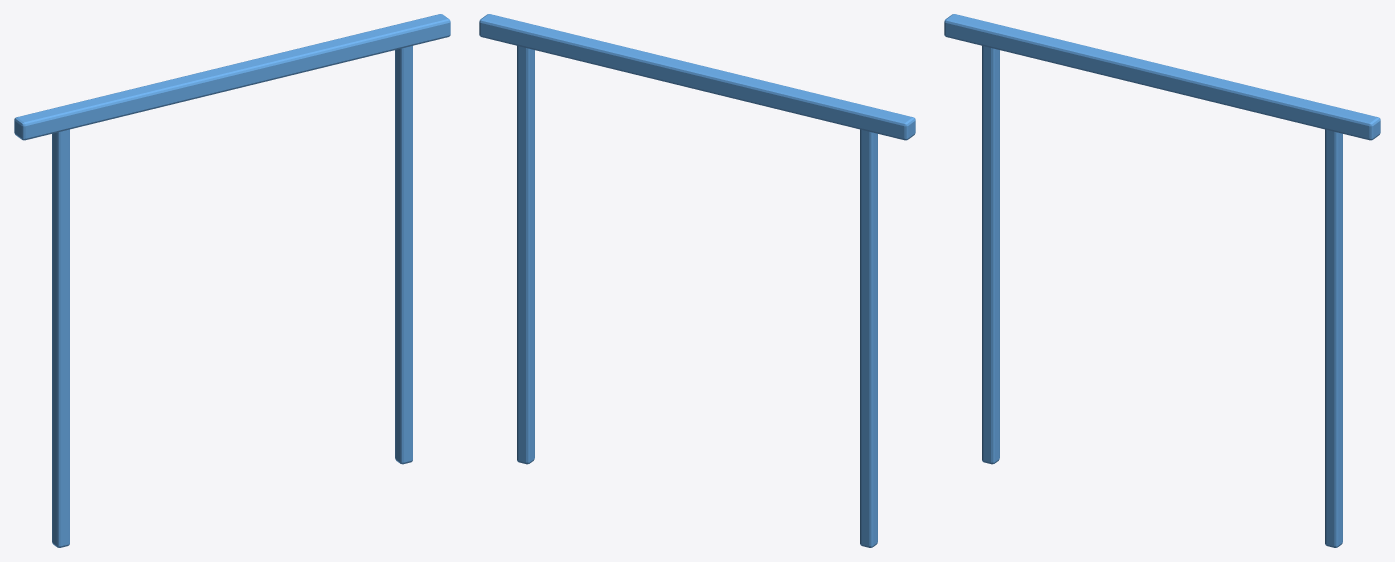
File: PGK_Rail_1m_LOD0.fbx
3 views of the same model, side by side, from view 1: azimuth 30°, elevation 25°; view 2: azimuth 150°, elevation 25°; view 3: azimuth 330°, elevation 25° (orthographic).
Visible parts, largest first — view 1: RailTop, Bal, Bal.001; view 2: RailTop, Bal, Bal.001; view 3: RailTop, Bal.001, Bal.
Boxes of the visible parts, box(x1,y1,x2,y2) form: RailTop: box(14, 14, 450, 140); Bal: box(52, 129, 69, 547); Bal.001: box(395, 46, 412, 464); RailTop: box(479, 14, 915, 140); Bal: box(860, 129, 877, 547); Bal.001: box(517, 46, 534, 464); RailTop: box(944, 14, 1380, 140); Bal.001: box(1325, 129, 1342, 547); Bal: box(982, 46, 999, 464).
Bounding box in the file's own units: 1 × 0.97 × 0.04.
